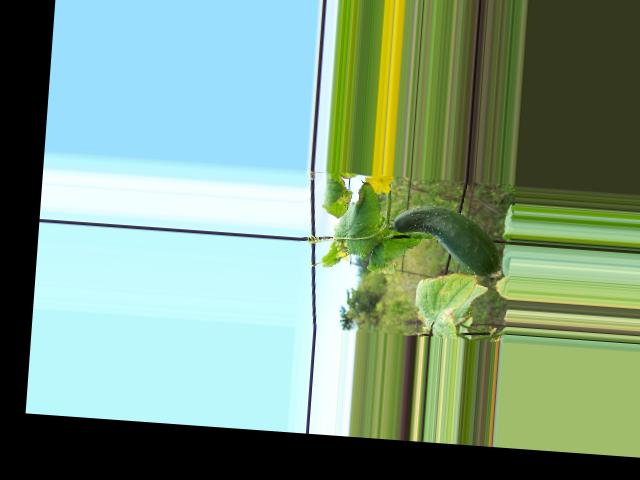cucumber: (388, 203, 503, 278)
